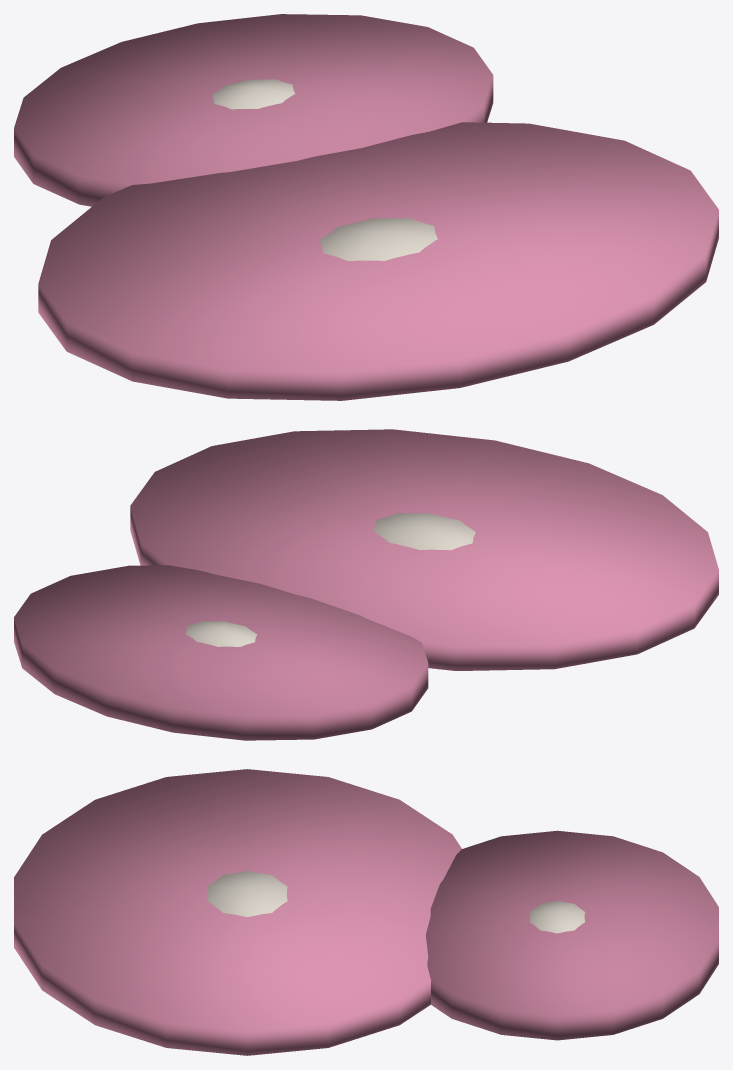
File: SH_Fly_Wing_Pink.fbx
3 views of the same model, one above another, from view 1: azimuth 30°, elevation 25°; view 2: azimuth 150°, elevation 25°; view 3: azimuth 270°, elevation 25° (orthographic). The views are drawn at different scales.
Parts seen in each view (by area): view 1: SH_Fly_Wing_Pink; view 2: SH_Fly_Wing_Pink; view 3: SH_Fly_Wing_Pink.
Boxes of the visible parts, x1,y1,x2,y2 form: SH_Fly_Wing_Pink: (14, 14, 718, 400); SH_Fly_Wing_Pink: (14, 429, 718, 740); SH_Fly_Wing_Pink: (14, 769, 718, 1055).
Size of the model in its own units: 0.068 by 0.00578 by 0.0773.
